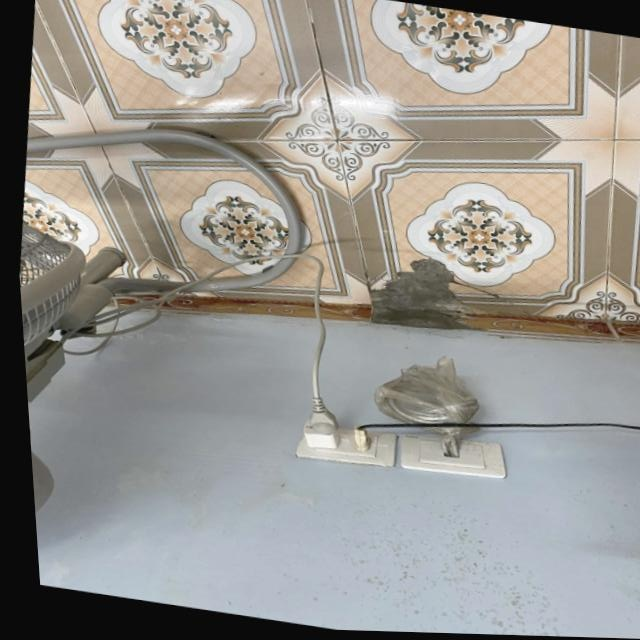outlet: (397, 426, 512, 483), (294, 416, 401, 470)
